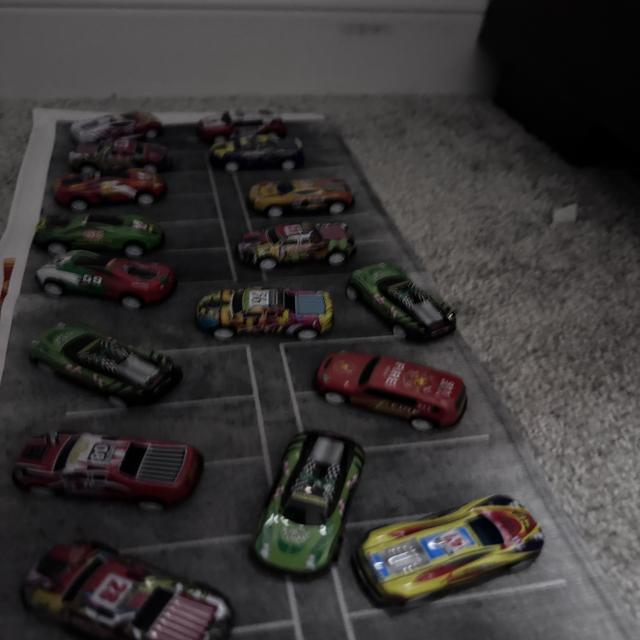car: (12, 424, 258, 521), (0, 312, 206, 421), (52, 544, 240, 640), (408, 465, 533, 602), (243, 413, 334, 567), (168, 271, 338, 349), (279, 338, 452, 409), (10, 146, 194, 212), (342, 271, 457, 351), (0, 202, 187, 251), (188, 182, 367, 222), (100, 116, 221, 160), (232, 220, 364, 258), (199, 95, 304, 140), (19, 276, 154, 307), (232, 139, 283, 161)
